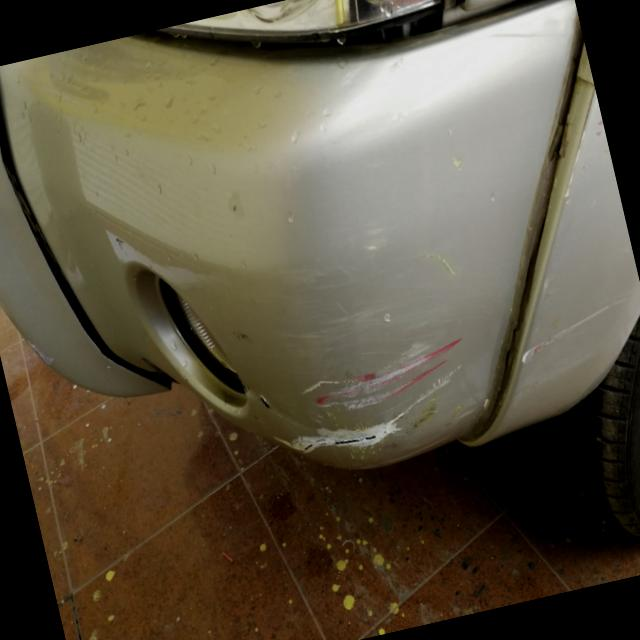Dechirure: (295, 420, 397, 461)
Rayure: (296, 327, 475, 420), (510, 293, 637, 367), (423, 240, 464, 287)
